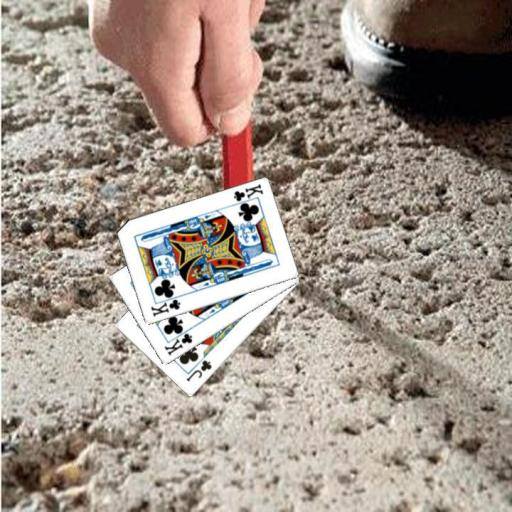JC: (183, 357, 213, 383)
KC: (161, 325, 193, 357), (147, 292, 183, 319), (229, 181, 265, 208)
